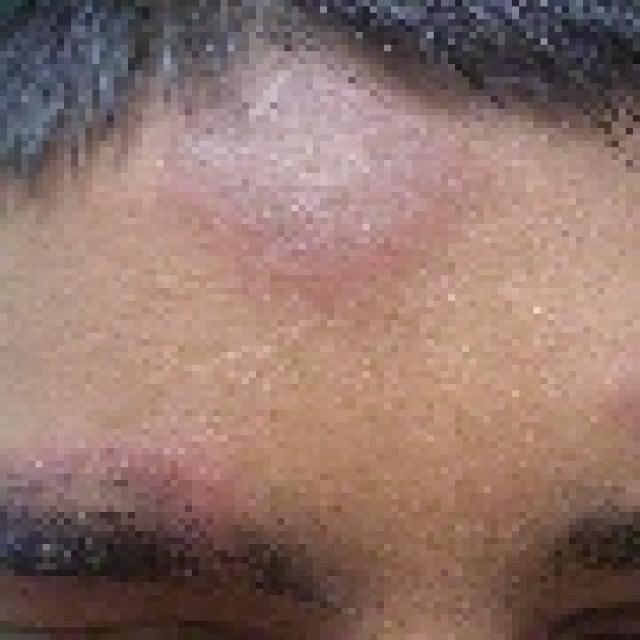lupus: (176, 78, 499, 301), (25, 403, 283, 545)
